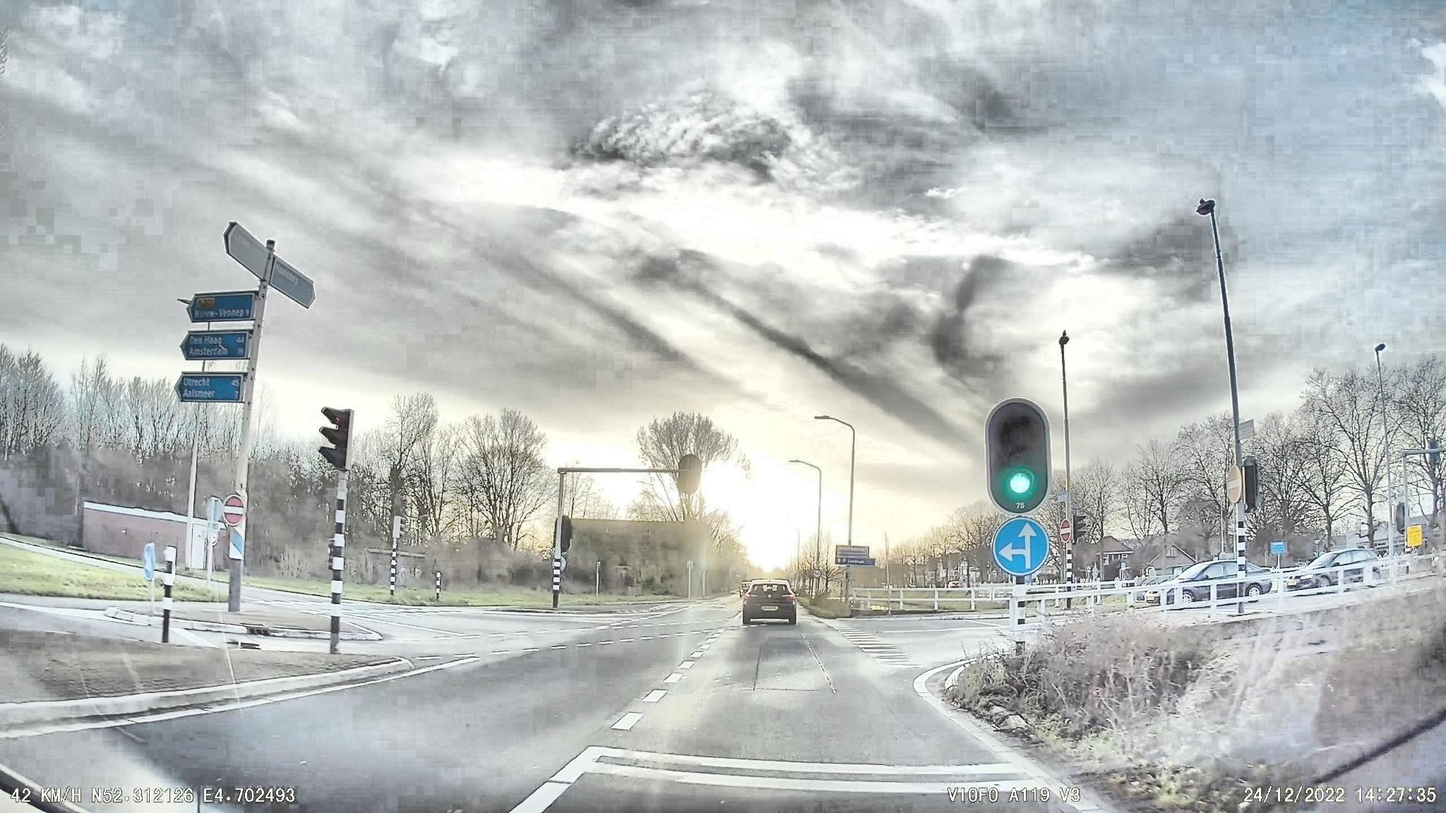Roads: (26, 587, 1081, 813)
